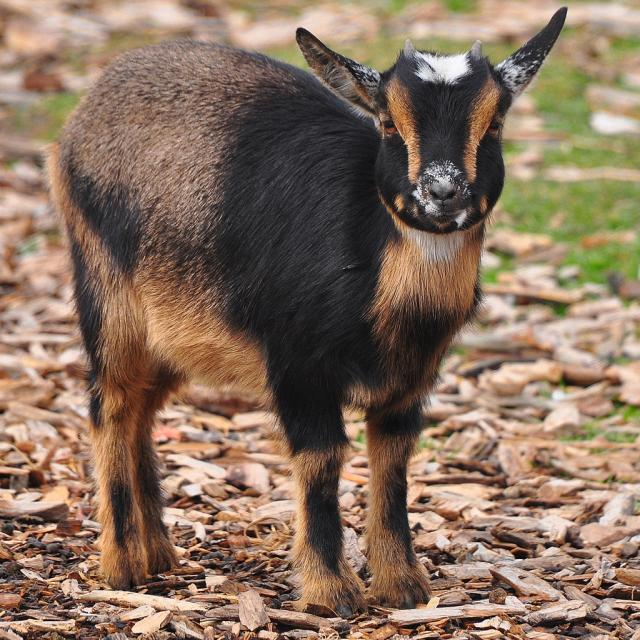Goat: (37, 6, 568, 619)
